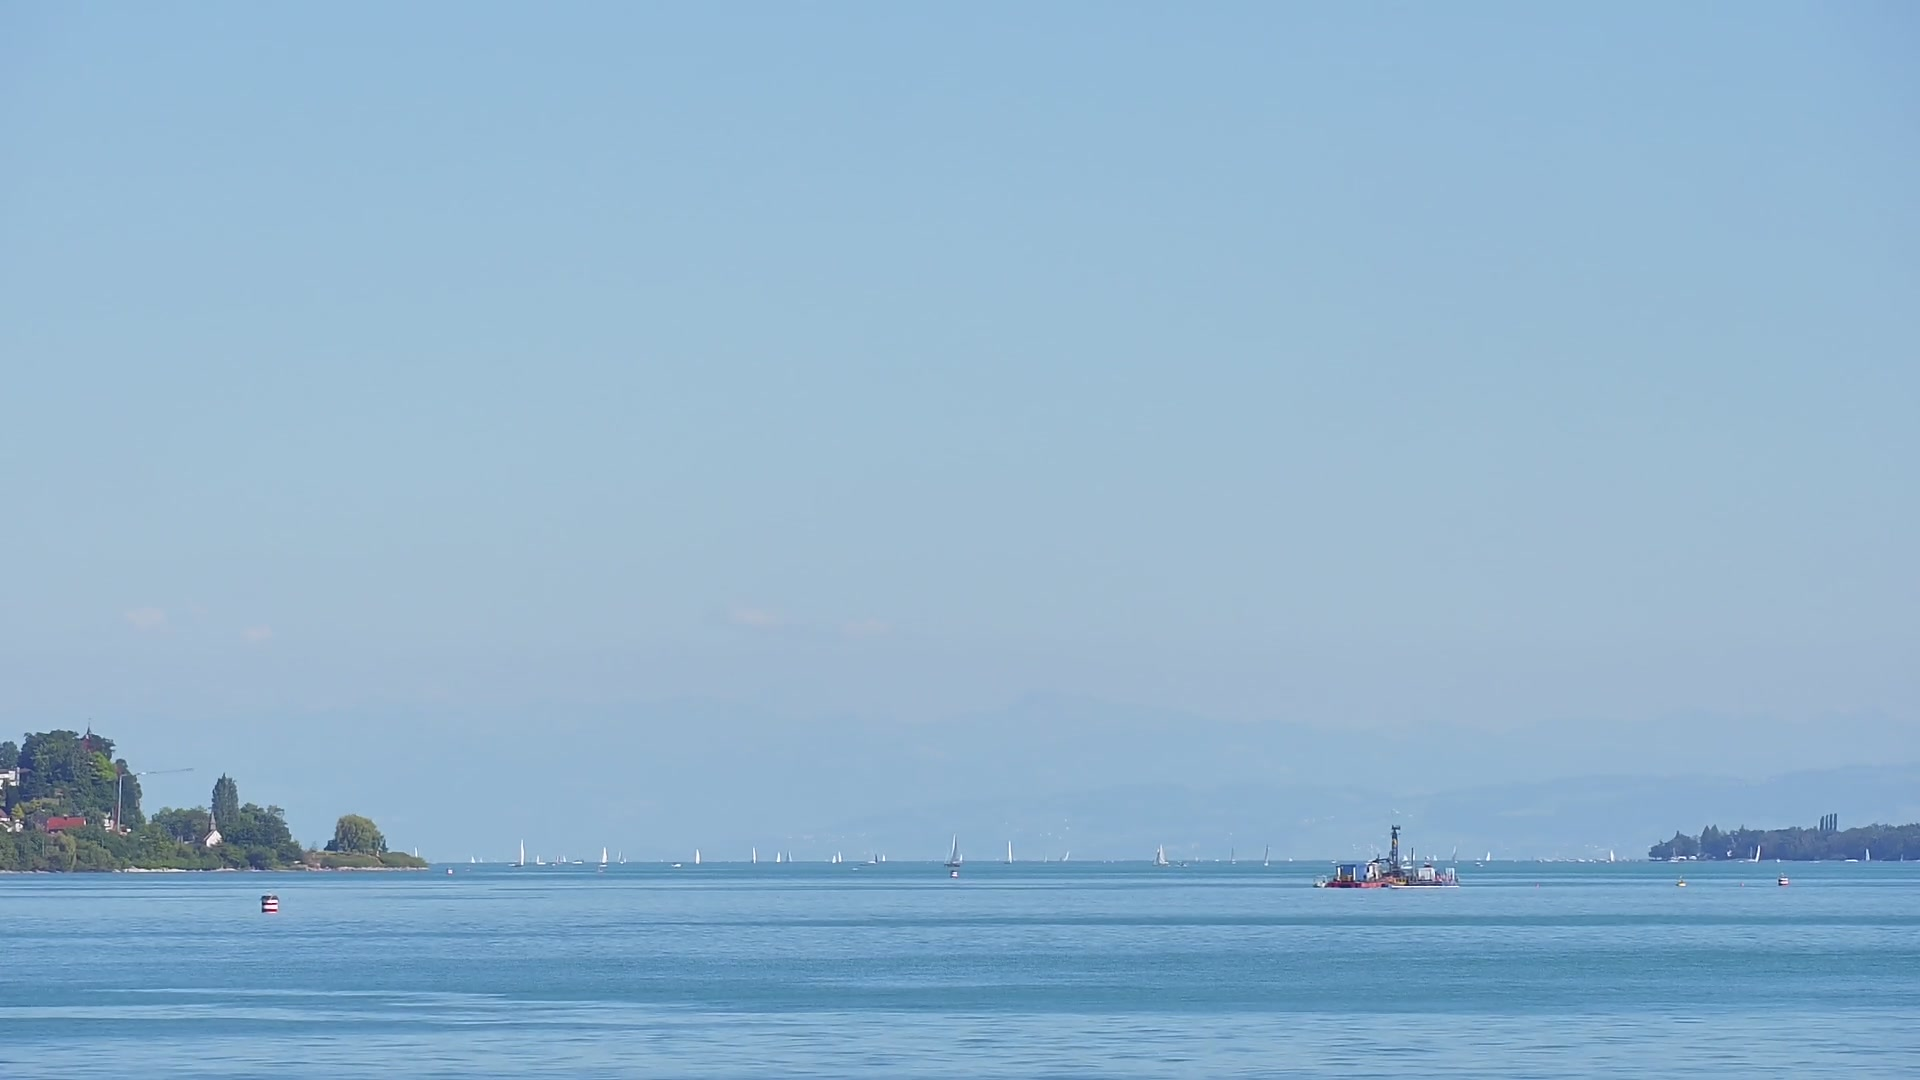sea: (943, 829, 963, 866), (506, 837, 525, 866), (1151, 843, 1168, 866), (597, 847, 608, 868), (1005, 840, 1013, 865), (1262, 843, 1270, 866), (1667, 847, 1679, 862), (1451, 845, 1458, 865), (1229, 847, 1237, 865), (1746, 847, 1755, 862), (535, 855, 547, 866), (866, 855, 878, 865), (1059, 851, 1069, 862), (750, 847, 757, 865), (1754, 844, 1760, 862), (618, 851, 626, 865), (1607, 848, 1615, 862), (695, 848, 702, 865), (785, 851, 793, 864), (1865, 848, 1871, 862), (571, 858, 584, 865), (836, 851, 843, 864), (775, 851, 781, 864), (957, 852, 964, 862), (670, 861, 682, 866), (1485, 851, 1490, 861), (560, 855, 567, 862), (469, 856, 476, 864), (831, 856, 837, 864), (1431, 853, 1437, 861), (881, 855, 886, 862)
